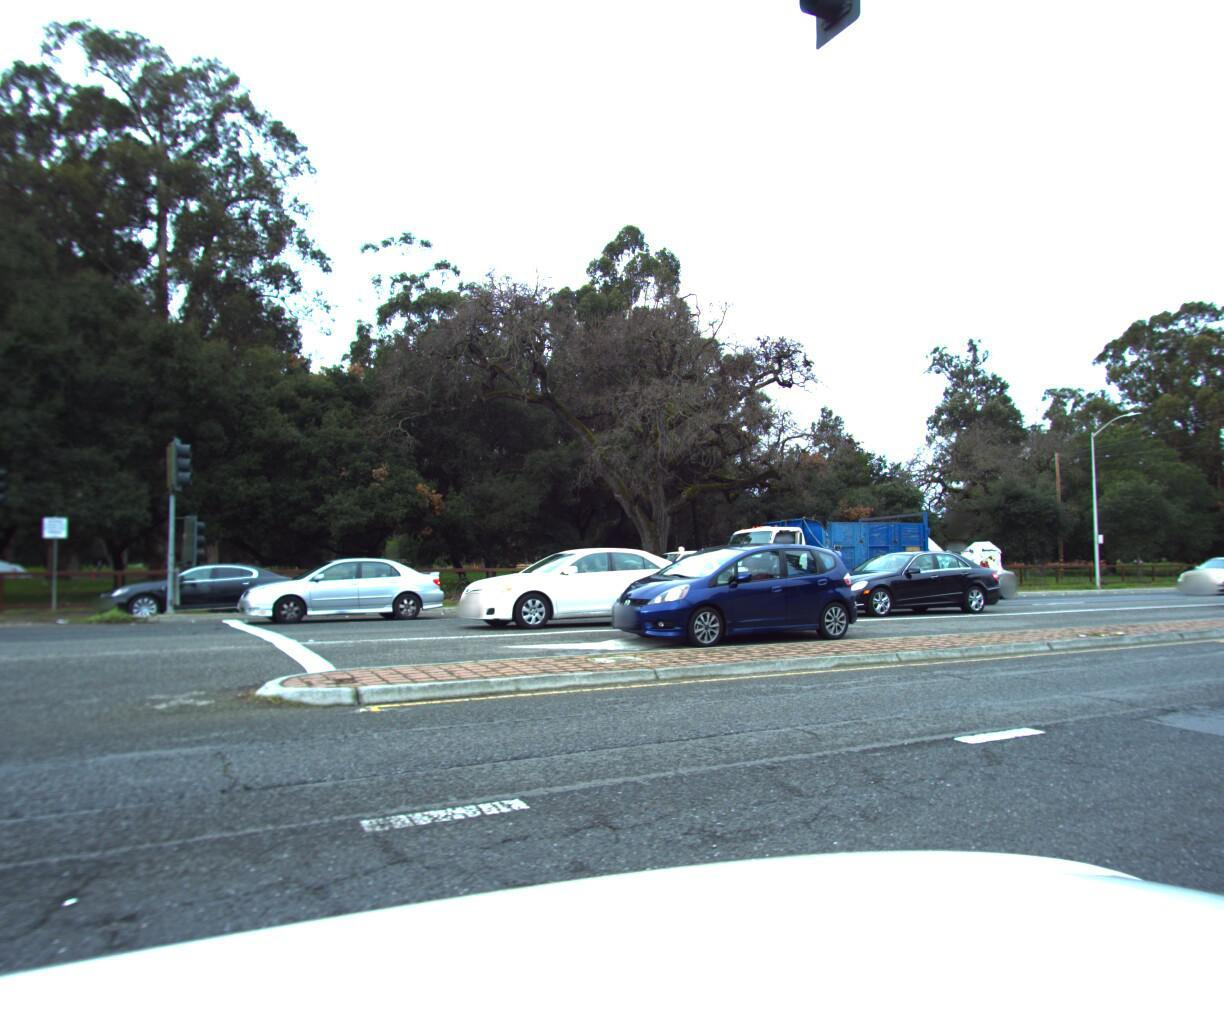car: (587, 534, 878, 648), (443, 538, 718, 633), (800, 543, 1012, 619), (233, 552, 445, 623), (87, 557, 291, 621), (635, 538, 779, 595), (884, 553, 1016, 594), (1163, 543, 1224, 588), (1207, 529, 1224, 601)
truck: (703, 500, 1037, 608)
